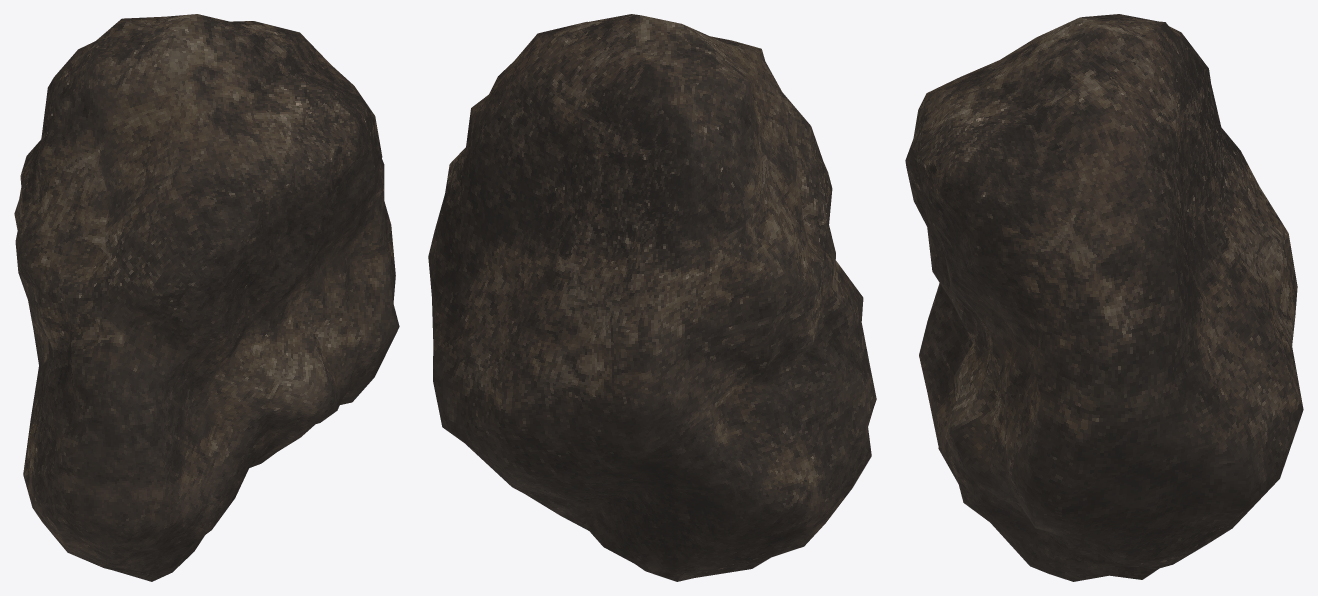
The model's file is SM_RP2_Rock_8m_3.glb.
3 views of the same model, side by side, from view 1: azimuth 30°, elevation 25°; view 2: azimuth 150°, elevation 25°; view 3: azimuth 270°, elevation 25° (orthographic). The views are drawn at different scales.
Parts seen in each view (by area): view 1: SM_RP2_Rock_8m_3; view 2: SM_RP2_Rock_8m_3; view 3: SM_RP2_Rock_8m_3.
Boxes of the visible parts, x1,y1,x2,y2 form: SM_RP2_Rock_8m_3: [14, 14, 399, 581]; SM_RP2_Rock_8m_3: [428, 14, 876, 581]; SM_RP2_Rock_8m_3: [905, 14, 1303, 581].
Bounding box in the file's own units: 10.17 × 13.89 × 8.6.
Materials: 1 (1 with a texture image).
